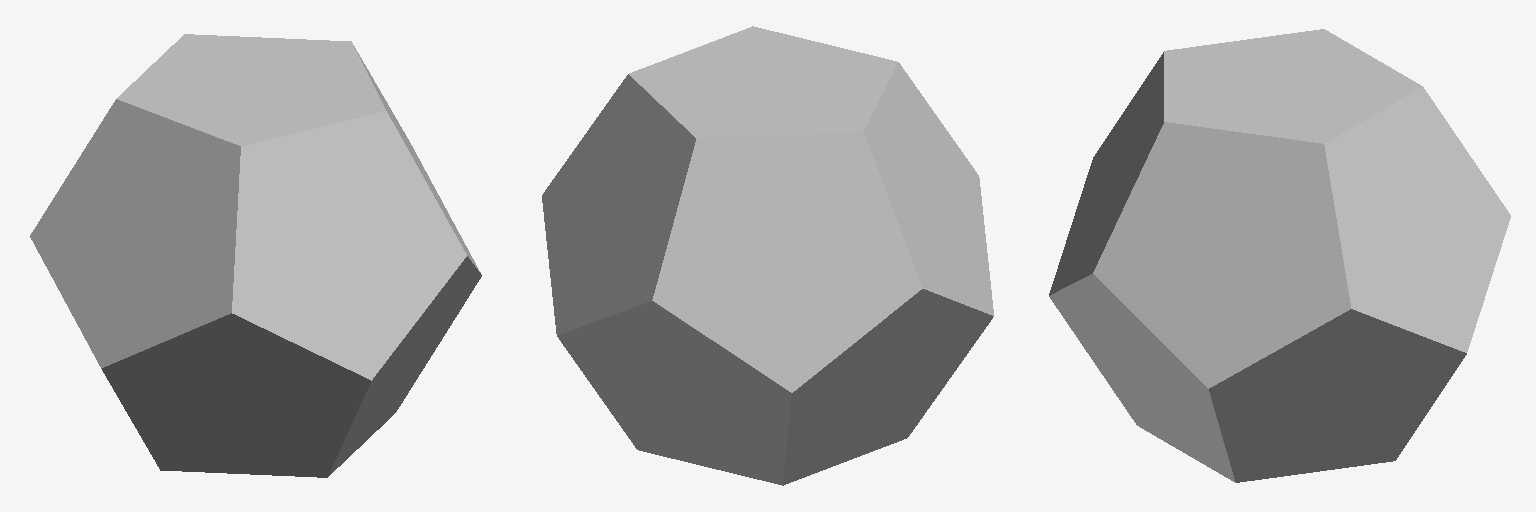
File: d12hitbox.obj
3 renders of one model, left to right at view 1: azimuth 30°, elevation 25°; view 2: azimuth 150°, elevation 25°; view 3: azimuth 270°, elevation 25°, orthographic.
Visible parts, largest first — view 1: d12_hitbox; view 2: d12_hitbox; view 3: d12_hitbox.
Boxes of the visible parts, <box> form: d12_hitbox: <box>30,34,481,477</box>; d12_hitbox: <box>542,26,993,485</box>; d12_hitbox: <box>1049,29,1510,482</box>.
Bounding box in the file's own units: 1.68 × 1.43 × 1.77.